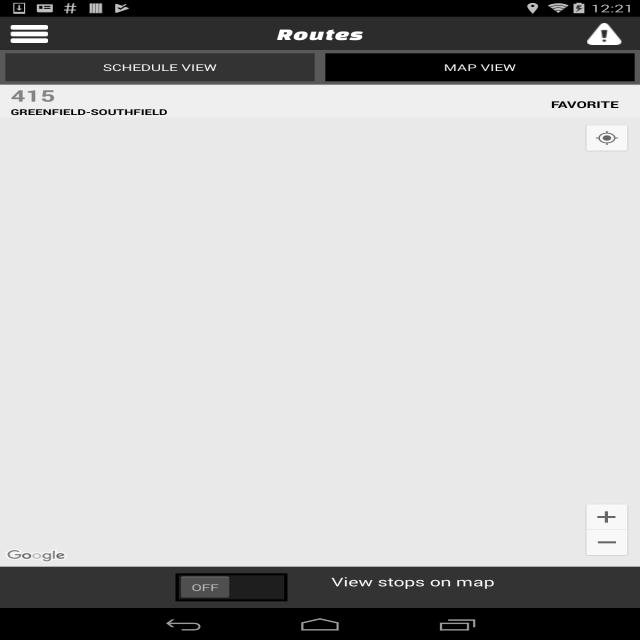Button: (5, 54, 315, 82), (325, 54, 635, 82)
ImageButton: (0, 18, 59, 50)
ImageView: (584, 124, 630, 152), (584, 503, 630, 530), (584, 530, 630, 556), (5, 549, 70, 563), (587, 23, 622, 45)
Switch: (175, 574, 288, 602)
TextView: (11, 85, 546, 106), (11, 106, 546, 118), (332, 573, 630, 590), (277, 25, 363, 43), (551, 98, 619, 111)
